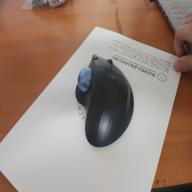mouse: (59, 36, 150, 152)
